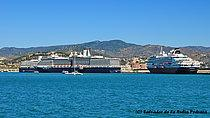Ship: (32, 48, 127, 78), (143, 46, 208, 78)
